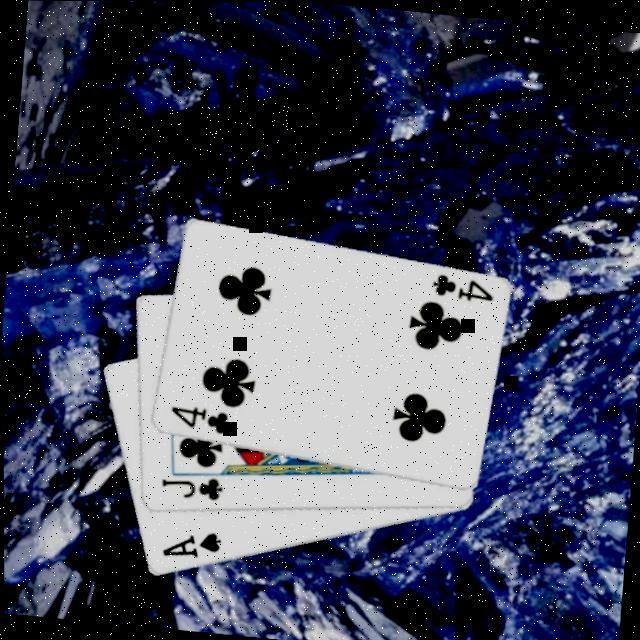4C: (427, 270, 497, 306), (166, 402, 233, 438)
AS: (158, 526, 225, 565)
JC: (156, 470, 226, 504)
